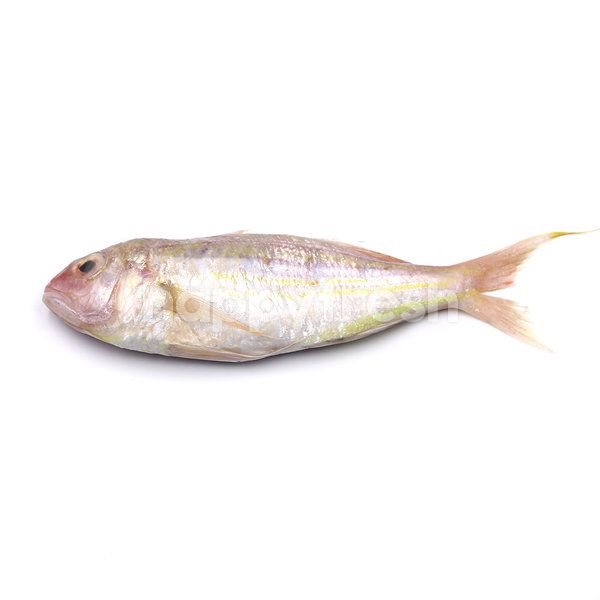Ikan Kerisi: (40, 236, 553, 363)
